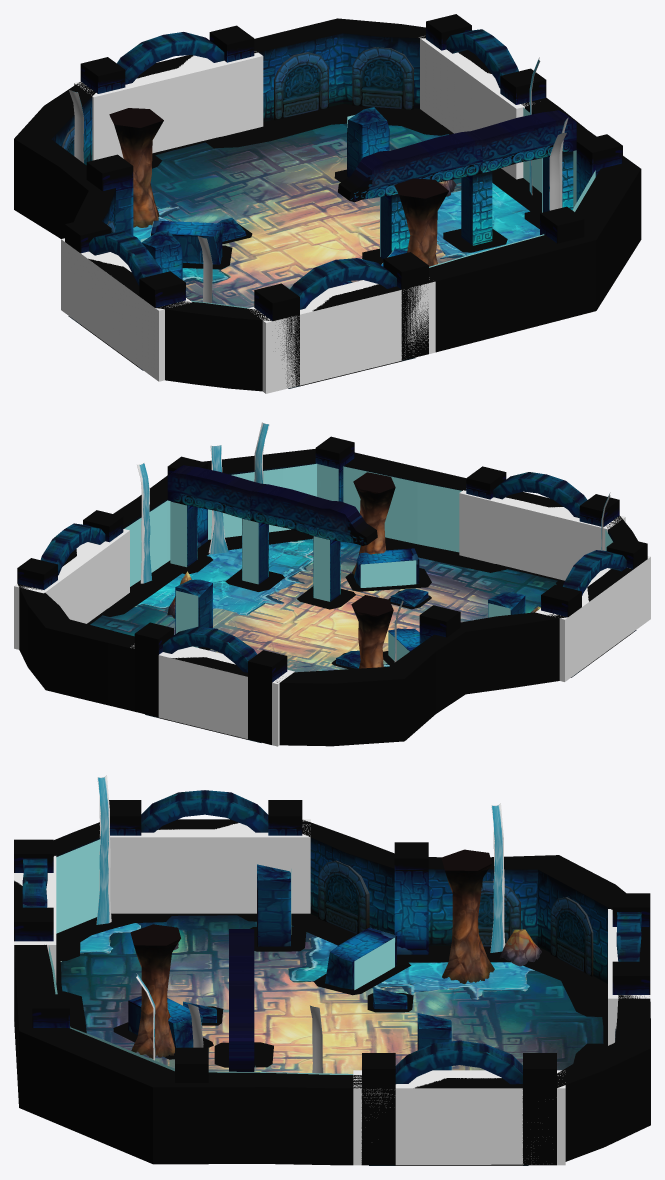
File: Dungeon_051_Room_007.fbx
3 renders of one model, top to bottom at view 1: azimuth 30°, elevation 25°; view 2: azimuth 150°, elevation 25°; view 3: azimuth 270°, elevation 25°, orthographic. The views are drawn at different scales.
Parts seen in each view (by area): view 1: Dun_051_Room_003_Wall, DoorWay_NavMask (1) (×4), Dun_051_Room_003_Ground, Dun_051_Room_003_Pillar_01, Dun_051_Room_003_Object_01, Dun_051_Door_002_Arch (×4), Dun_051_Room_003_Wallobject_01, Dun_051_shadow, Dungeon_011_Object_010 (×2), Dun_051_Room_003_GroundWater_01, Dun_051_Water01_Tak_A2, Dun_051_Door_002 (×2) (+1 smaller); view 2: Dun_051_Room_003_Wall, DoorWay_NavMask (1) (×4), Dun_051_Room_003_Pillar_01, Dun_051_Room_003_GroundWater_01_Terikaeshi, Dun_051_Room_003_Ground, Dun_051_Room_003_Object_01, Dun_051_Door_002_Arch (×4), Dun_051_shadow, Dun_051_Room_003_GroundWater_01, Dungeon_011_Object_010 (×2), Dun_051_Water01_Tak_A1, Dun_051_Door_002 (×2); view 3: Dun_051_Room_003_Wall, Dun_051_Room_003_Ground, DoorWay_NavMask (1) (×4), Dun_051_Room_003_Pillar_01, Dun_051_shadow, Dun_051_Door_002_Arch (×4), Dungeon_011_Object_010 (×2), Dun_051_Room_003_Wallobject_01, Dun_051_Room_003_GroundWater_01_Terikaeshi, Dun_051_Room_003_GroundWater_01, Dun_051_Room_003_Object_01, Dun_051_Water01_Tak_A1 (+3 smaller).
Part boxes in pixels (bbox=[...]): Dun_051_Room_003_Wall: bbox=[14, 18, 641, 391]; DoorWay_NavMask (1) (×4): bbox=[61, 36, 532, 393]; Dun_051_Room_003_Ground: bbox=[68, 123, 461, 388]; Dun_051_Room_003_Pillar_01: bbox=[65, 14, 622, 372]; Dun_051_Room_003_Object_01: bbox=[337, 110, 576, 258]; Dun_051_Door_002_Arch (×4): bbox=[89, 29, 518, 309]; Dun_051_Room_003_Wallobject_01: bbox=[62, 47, 413, 232]; Dun_051_shadow: bbox=[152, 104, 541, 300]; Dungeon_011_Object_010 (×2): bbox=[109, 108, 448, 266]; Dun_051_Room_003_GroundWater_01: bbox=[133, 183, 539, 283]; Dun_051_Water01_Tak_A2: bbox=[69, 58, 568, 302]; Dun_051_Door_002 (×2): bbox=[81, 258, 401, 386]; Dun_051_Room_003_Wall: bbox=[18, 449, 637, 746]; DoorWay_NavMask (1) (×4): bbox=[14, 490, 650, 746]; Dun_051_Room_003_Pillar_01: bbox=[17, 436, 647, 744]; Dun_051_Room_003_GroundWater_01_Terikaeshi: bbox=[124, 463, 612, 660]; Dun_051_Room_003_Ground: bbox=[90, 541, 636, 742]; Dun_051_Room_003_Object_01: bbox=[167, 465, 377, 601]; Dun_051_Door_002_Arch (×4): bbox=[40, 472, 626, 672]; Dun_051_shadow: bbox=[103, 529, 563, 669]; Dun_051_Room_003_GroundWater_01: bbox=[135, 538, 389, 666]; Dungeon_011_Object_010 (×2): bbox=[351, 472, 395, 668]; Dun_051_Water01_Tak_A1: bbox=[137, 422, 609, 662]; Dun_051_Door_002 (×2): bbox=[159, 567, 633, 739]; Dun_051_Room_003_Wall: bbox=[14, 820, 650, 1165]; Dun_051_Room_003_Ground: bbox=[60, 915, 603, 1165]; DoorWay_NavMask (1) (×4): bbox=[14, 819, 650, 1165]; Dun_051_Room_003_Pillar_01: bbox=[14, 800, 650, 1165]; Dun_051_shadow: bbox=[56, 913, 607, 1164]; Dun_051_Door_002_Arch (×4): bbox=[22, 790, 641, 1084]; Dungeon_011_Object_010 (×2): bbox=[130, 849, 494, 1058]; Dun_051_Room_003_Wallobject_01: bbox=[318, 860, 616, 1041]; Dun_051_Room_003_GroundWater_01_Terikaeshi: bbox=[49, 839, 452, 1074]; Dun_051_Room_003_GroundWater_01: bbox=[60, 923, 534, 1072]; Dun_051_Room_003_Object_01: bbox=[229, 929, 254, 1071]; Dun_051_Water01_Tak_A1: bbox=[96, 775, 505, 1071].
Size of what is drawn, in the model's own units: 15 by 5.32 by 15.02.
